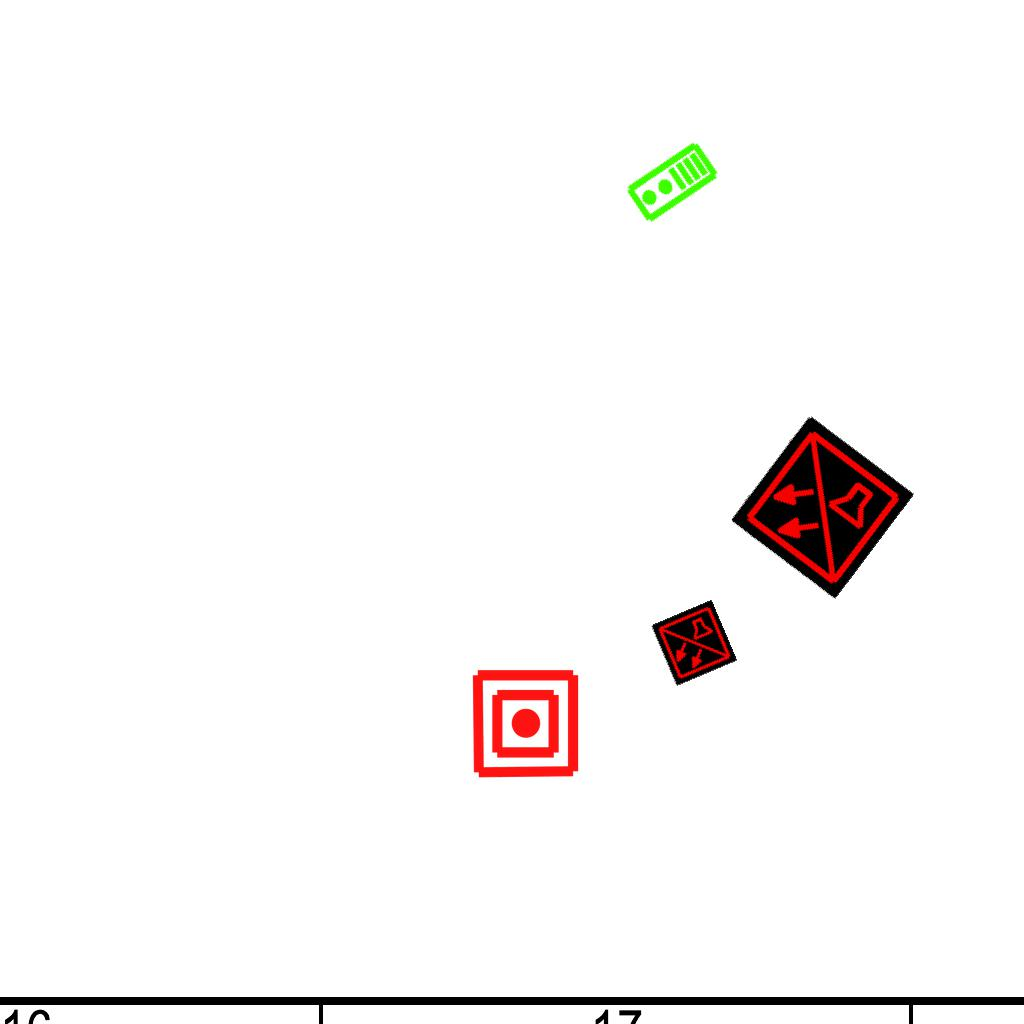Gegensprechanlage_mit_Video: (622, 138, 723, 228)
NAM-Nichtautomatischer_Melder: (469, 667, 582, 780)
OKW_Multisensormelder_(Kombination_optischer_Rauch-Kahlenmonoxid_Waerme-Melder): (729, 414, 915, 600), (650, 599, 738, 687)
